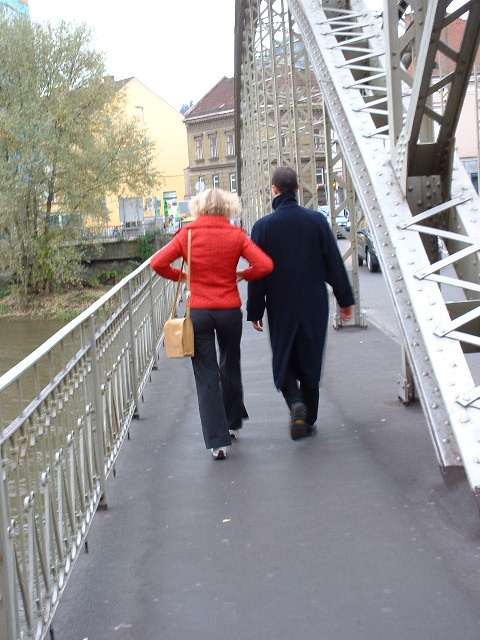person: (154, 180, 273, 463), (242, 163, 355, 439)
